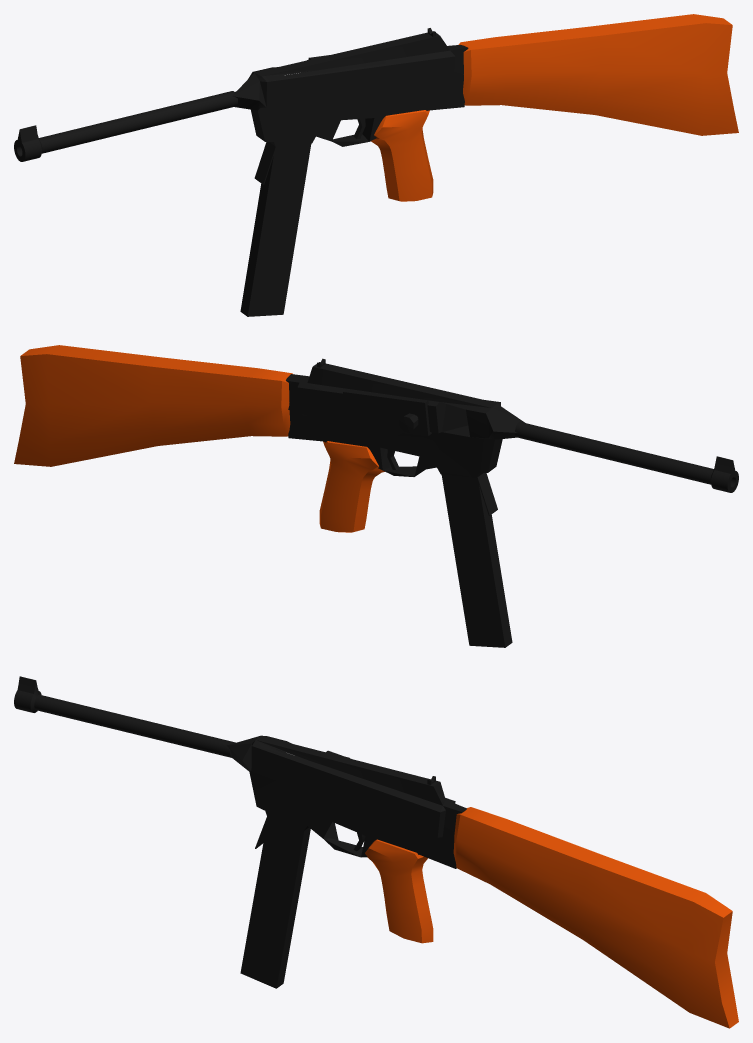
File: mas_38.fbx
The picture shows the model from 3 angles, top to bottom: view 1: azimuth 30°, elevation 25°; view 2: azimuth 150°, elevation 25°; view 3: azimuth 330°, elevation 25°; orthographic projection.
Visible parts, largest first — view 1: Plane.001; view 2: Plane.001; view 3: Plane.001.
Boxes of the visible parts, box(x1,y1,x2,y2) form: Plane.001: box(14, 14, 738, 316); Plane.001: box(14, 345, 738, 647); Plane.001: box(14, 676, 738, 1028).
Bounding box in the file's own units: 445 × 147 × 29.92.
